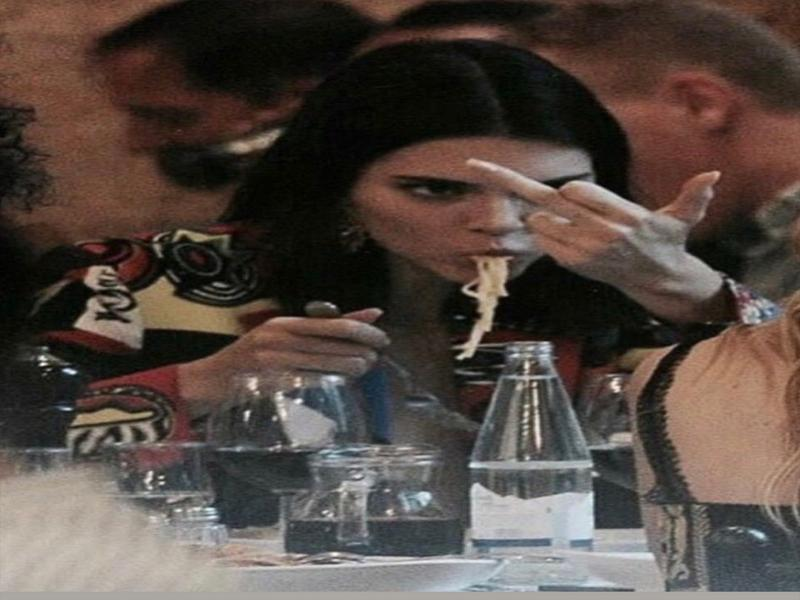flipping_the_bird: (458, 142, 722, 297)
